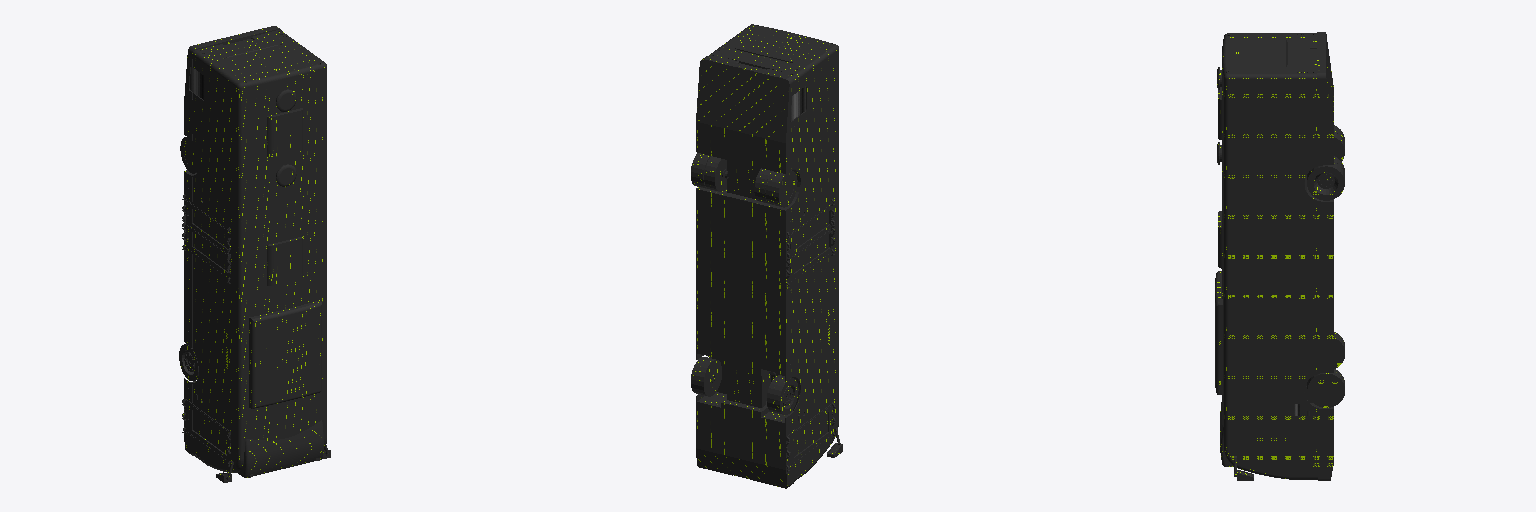
3 renders of one model, left to right at view 1: azimuth 30°, elevation 25°; view 2: azimuth 150°, elevation 25°; view 3: azimuth 270°, elevation 25°, orthographic.
Bounding box in the file's own units: 2.89 × 10.6 × 3.08.
Materials: 29 (3 with a texture image).